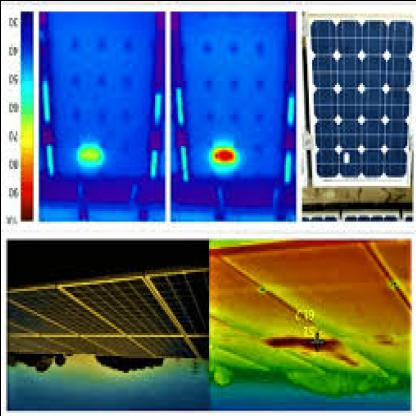Defects: (212, 143, 235, 164)
